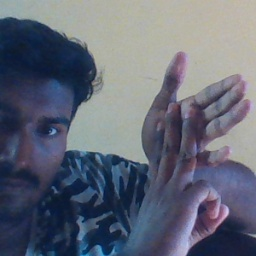M: (137, 51, 253, 243)
